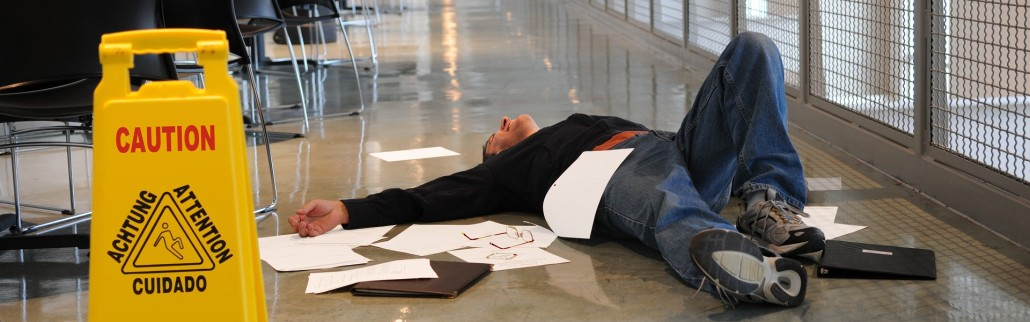collapsed: (274, 40, 1030, 317)
